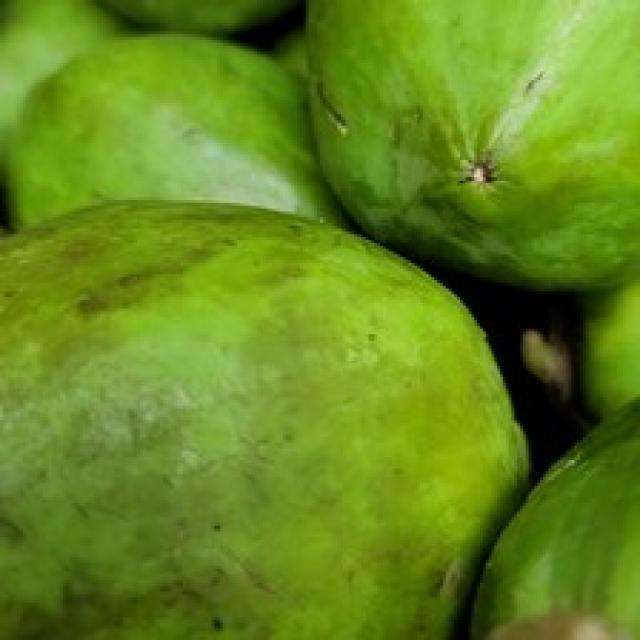Papaya: (0, 197, 574, 640), (35, 20, 360, 243)
